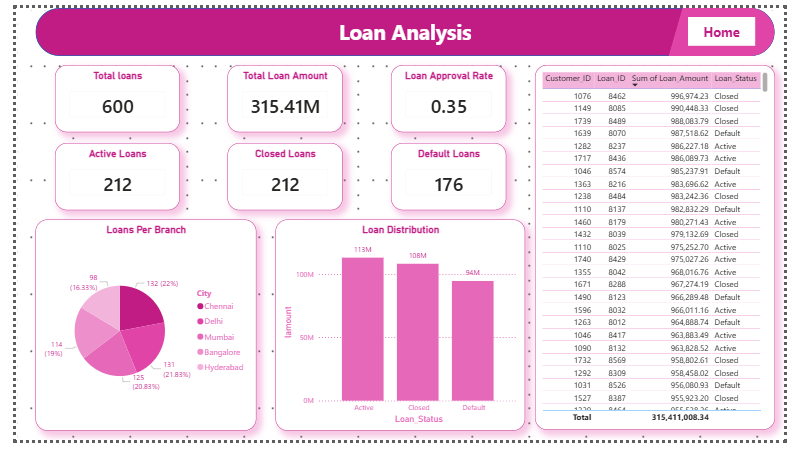

The page's visual inventory and layout, read from the dashboard file:
{"tool":"powerbi","page":{"name":"loan Analysis","canvas":[1280,720],"ordinal":4},"visuals":[{"type":"cardVisual","title":"Total Loan Amount","fields":{"Data":["Loan Analysis.Total Loan Amount"]},"box":[352,96,192,112],"z":0},{"type":"cardVisual","title":"Active Loans","fields":{"Data":["Loan Analysis.Active Loans"]},"box":[64,224,208,112],"z":1000},{"type":"cardVisual","title":"Closed Loans","fields":{"Data":["Loan Analysis.Closed Loans"]},"box":[352,224,192,112],"z":2000},{"type":"cardVisual","title":"Default Loans","fields":{"Data":["Loan Analysis.Default Loans"]},"box":[624,224,192,112],"z":3000},{"type":"cardVisual","title":"Loan Approval Rate","fields":{"Data":["Loan Analysis.Loan Approval Rate"]},"box":[624,96,192,112],"z":4000},{"type":"cardVisual","title":"Total loans","fields":{"Data":["CountNonNull(Loans.Loan_ID)"]},"box":[64,96,208,112],"z":5000},{"type":"tableEx","fields":{"Values":["Loans.Customer_ID","Loans.Loan_ID","Sum(Loans.Loan_Amount)","Loans.Loan_Status"]},"box":[864,96,400,608],"z":6000},{"type":"pieChart","title":"Loans Per Branch","fields":{"Y":["CountNonNull(Loans.Customer_ID)"],"Category":["Branches.City"]},"box":[32,352,368,352],"z":7000},{"type":"columnChart","title":"Loan Distribution","fields":{"Category":["Loans.Loan_Status"],"Y":["Loans.lamount"]},"box":[432,352,416,352],"z":8000},{"type":"shape","box":[32,0,1232,80],"z":9000},{"type":"shape","box":[1120,0,144,80],"z":10000},{"type":"shape","box":[1088,0,144,80],"z":12000},{"type":"actionButton","box":[1120,16,112,48],"z":12500}]}

Visuals, with their boxes in screenshot pixels (x1, y1, x2, y2), scaled from the page's 1280x720 canvas onto the 797x451 screenshot:
"Total Loan Amount" cardVisual: detection(219, 60, 339, 130)
"Active Loans" cardVisual: detection(40, 140, 169, 210)
"Closed Loans" cardVisual: detection(219, 140, 339, 210)
"Default Loans" cardVisual: detection(389, 140, 508, 210)
"Loan Approval Rate" cardVisual: detection(389, 60, 508, 130)
"Total loans" cardVisual: detection(40, 60, 169, 130)
tableEx - Loans.Customer_ID x Loans.Loan_ID: detection(538, 60, 787, 441)
"Loans Per Branch" pieChart: detection(20, 220, 249, 441)
"Loan Distribution" columnChart: detection(269, 220, 528, 441)
shape: detection(20, 0, 787, 50)
shape: detection(697, 0, 787, 50)
shape: detection(677, 0, 767, 50)
actionButton: detection(697, 10, 767, 40)
